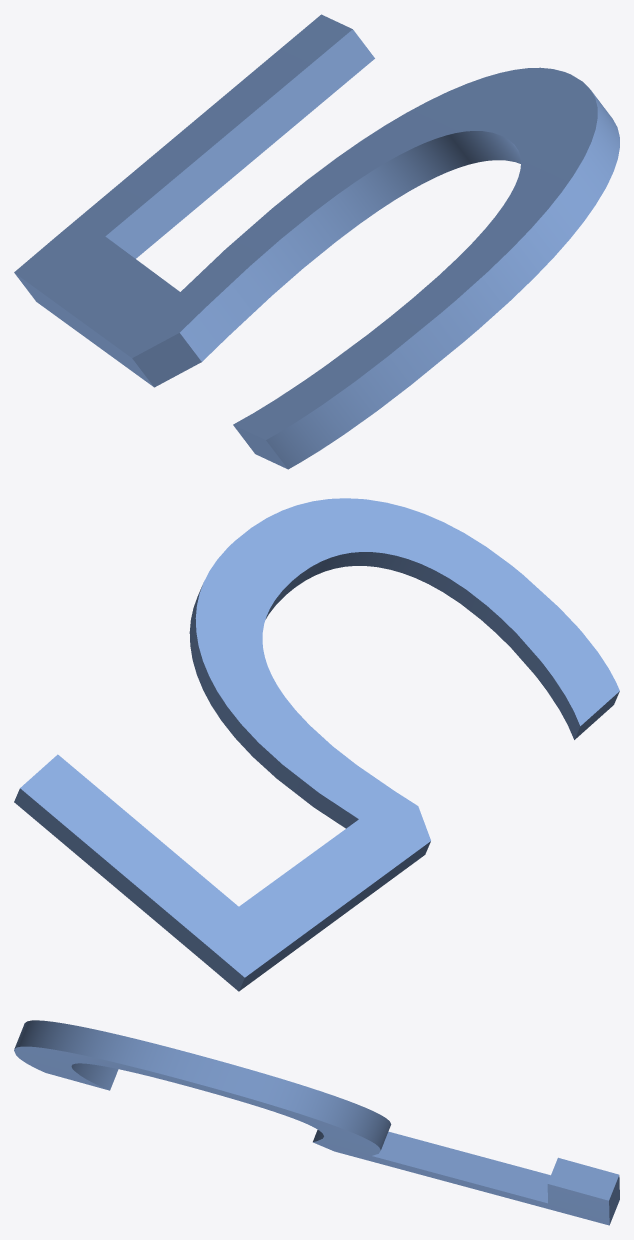
The model's file is New_Number_5.gltf.
3 views of the same model, one above another, from view 1: azimuth 30°, elevation 25°; view 2: azimuth 150°, elevation 25°; view 3: azimuth 270°, elevation 25° (orthographic). The views are drawn at different scales.
Visible parts, largest first — view 1: Part 644; view 2: Part 644; view 3: Part 644.
Part boxes in pixels (x1,y1,x2,y2): Part 644: (14,14,619,469); Part 644: (14,498,619,991); Part 644: (14,1020,619,1225).
Size of the model in its own units: 0.00349 by 0.00273 by 0.00549.
